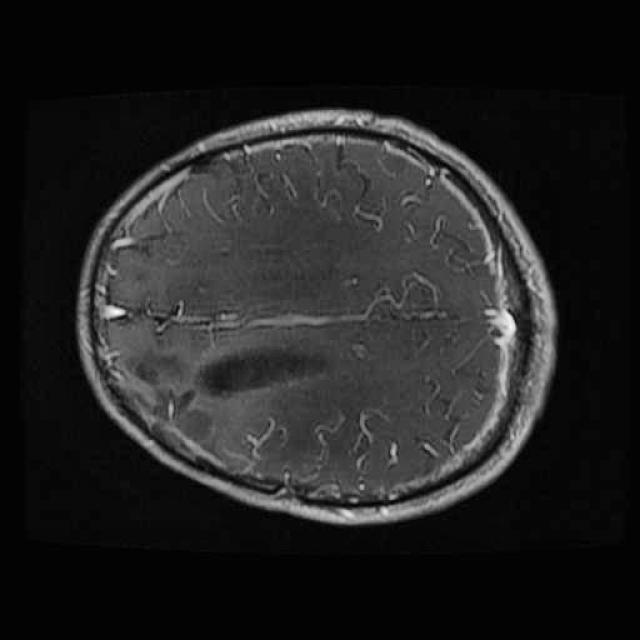Non-Tumor: (123, 330, 340, 464)
